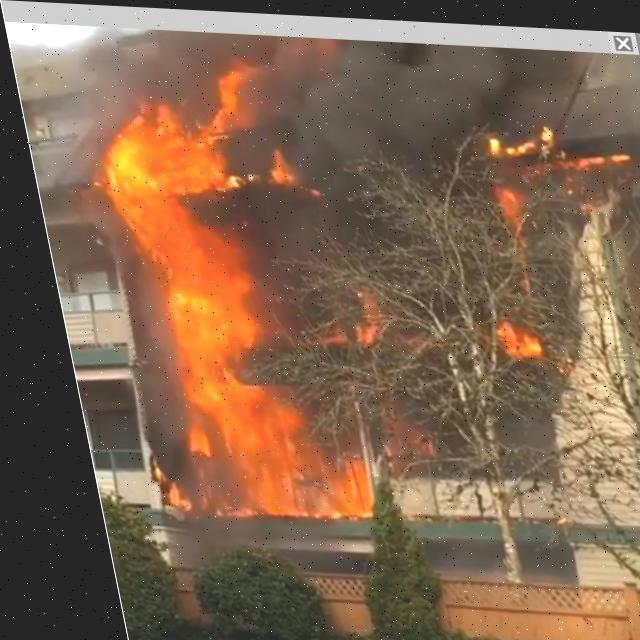Fire: (64, 57, 639, 538)
